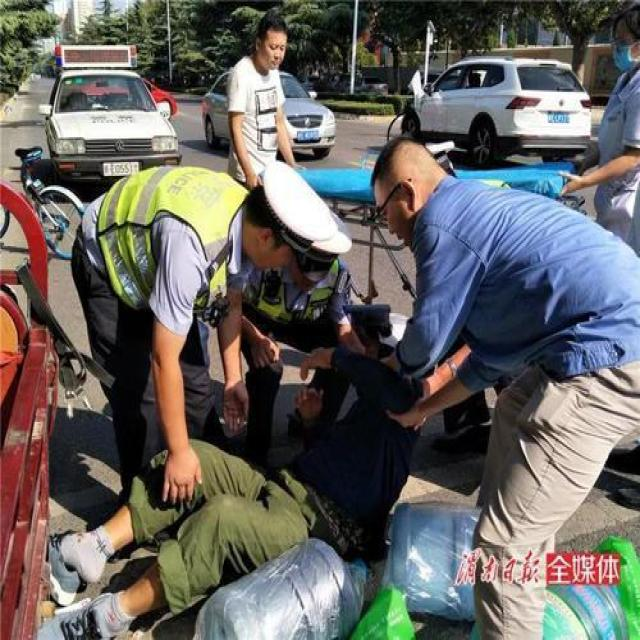fall: (21, 324, 424, 640)
nonfall: (367, 114, 640, 638), (78, 179, 326, 480), (228, 210, 368, 456), (211, 5, 315, 230), (580, 0, 640, 322)
